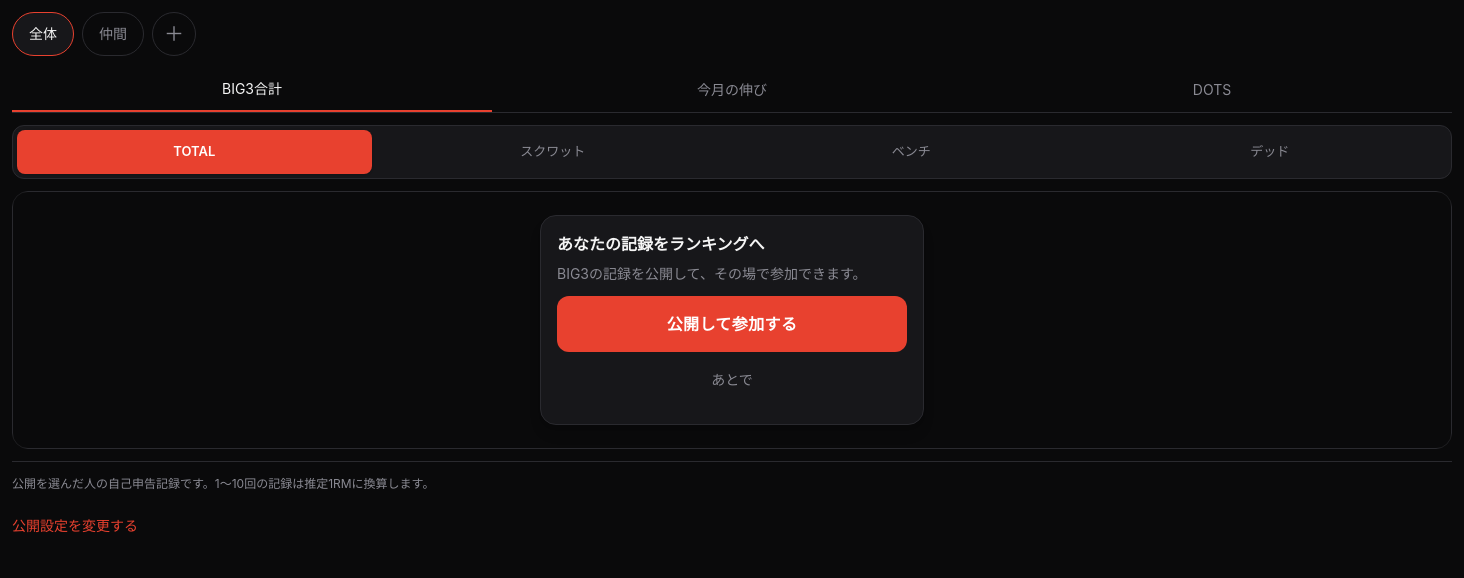
Test: says nobody has joined DOTS yet instead of showing an empty list
Click the button "仲間": (113, 34) [82,12,144,56]
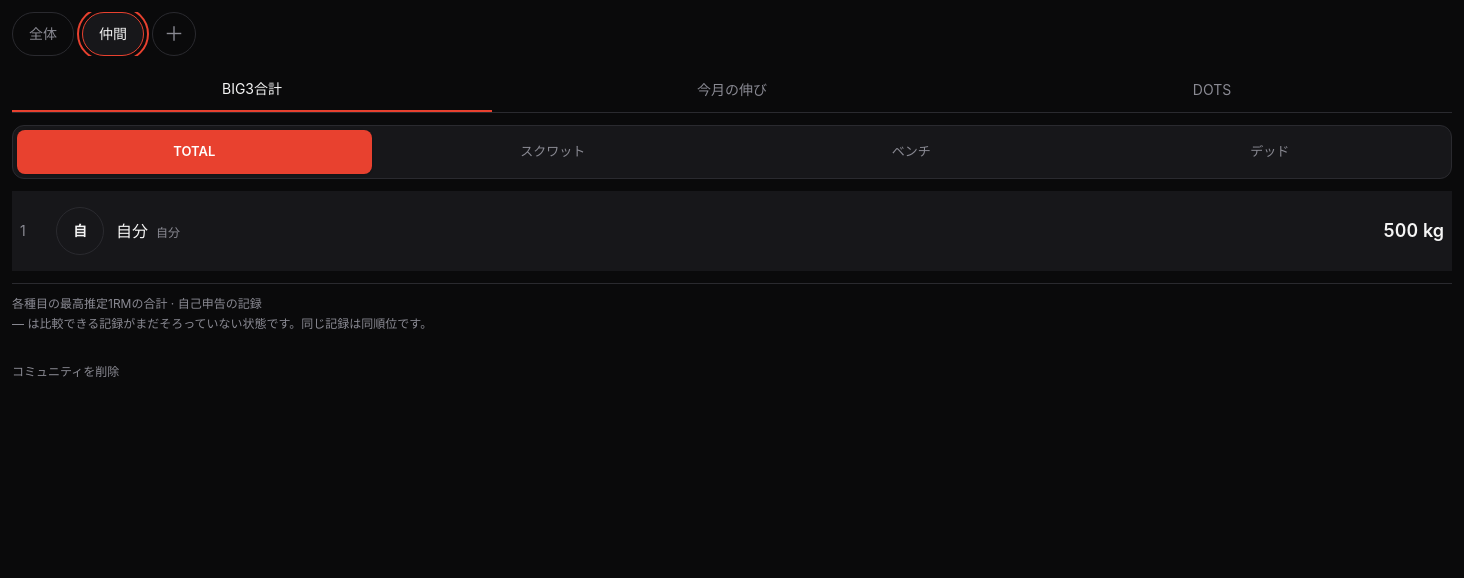
Check: the text "500 kg" is shown, box [1383,217,1444,245]
Click the button "DOTS": (1212, 90) [972,68,1452,112]
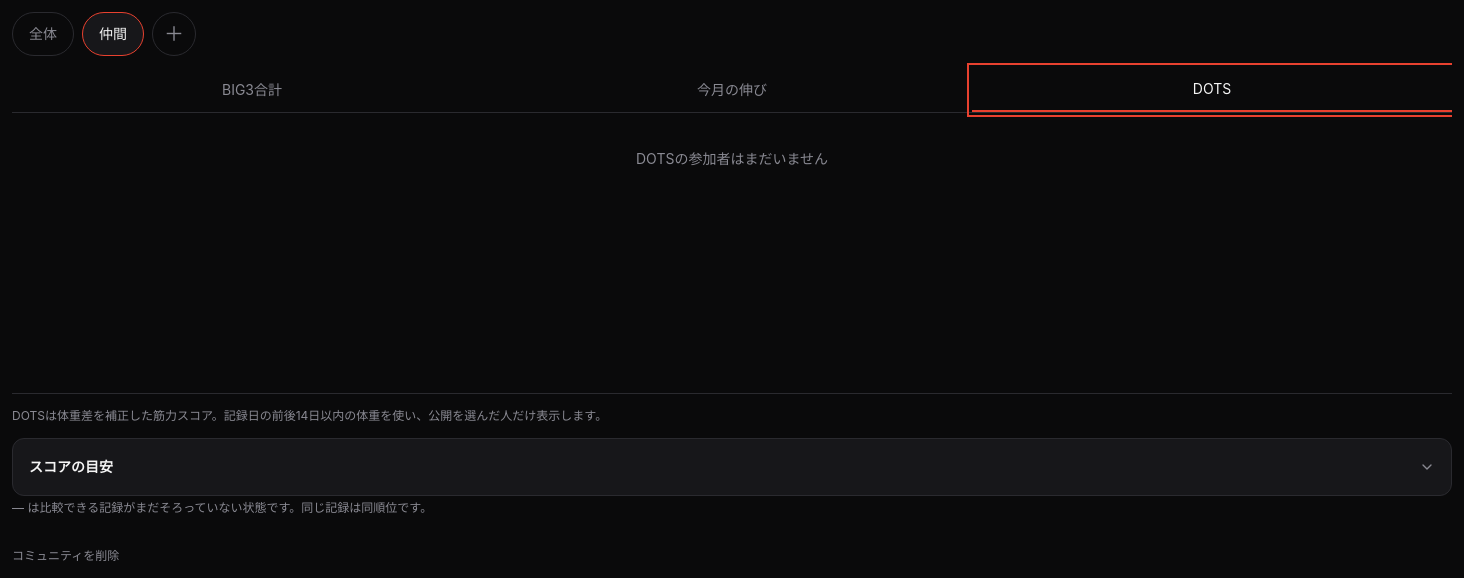
Check: the text "DOTSの参加者はまだいません" is shown, box [636,150,828,167]
